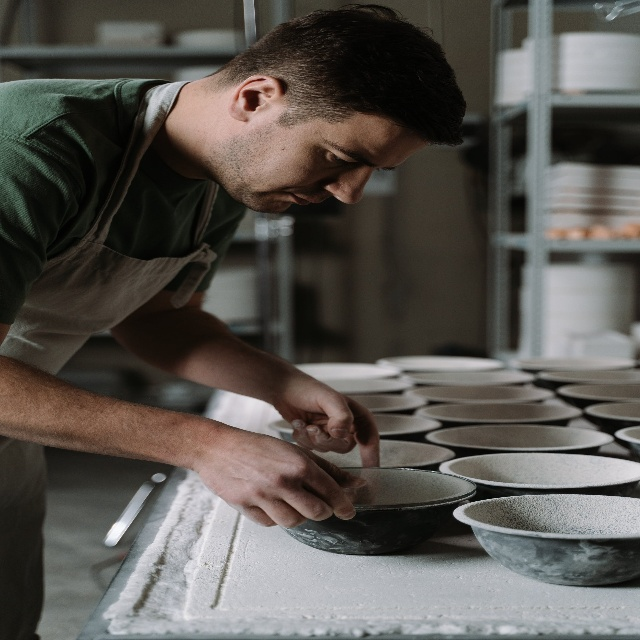Sin_guantes: (192, 421, 367, 529), (273, 364, 380, 467)
